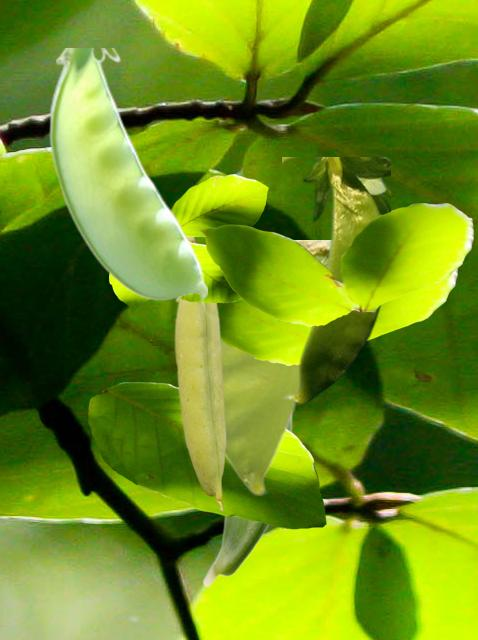pea: (48, 48, 206, 314), (222, 240, 328, 494), (282, 157, 389, 404), (201, 416, 294, 586), (174, 238, 226, 510)
